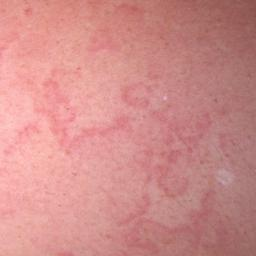bites: (14, 18, 243, 246)
